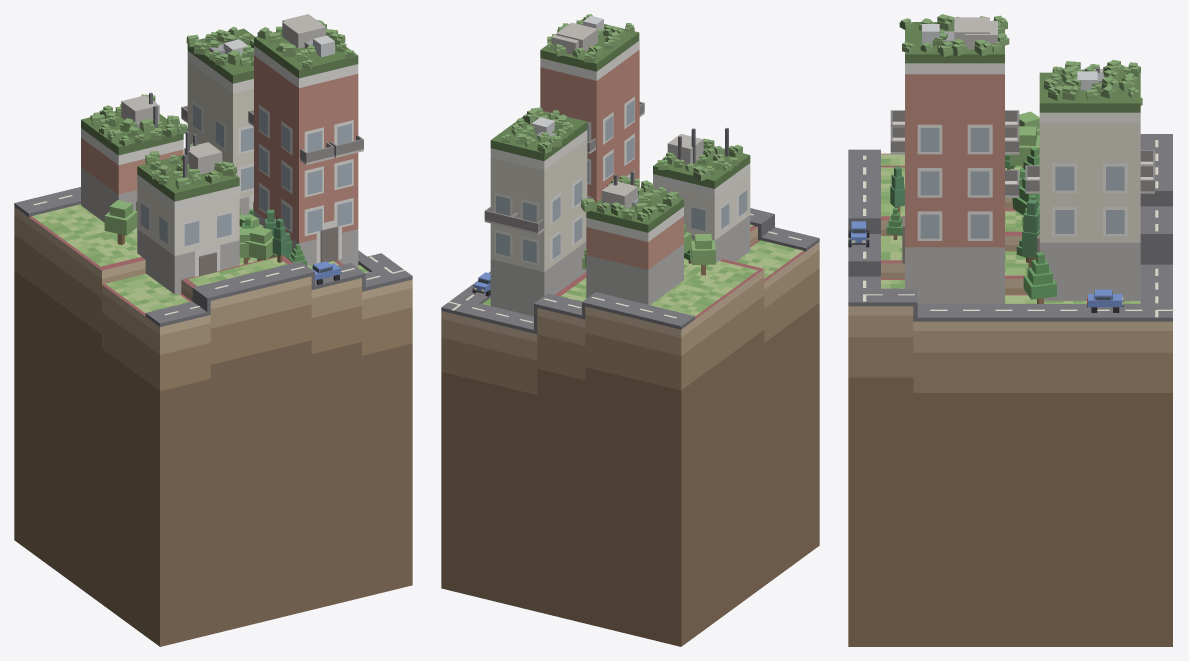
File: block_22_greenroof_40.glb
3 renders of one model, left to right at view 1: azimuth 30°, elevation 25°; view 2: azimuth 150°, elevation 25°; view 3: azimuth 270°, elevation 25°, orthographic. The views are drawn at different scales.
Parts seen in each view (by area): view 1: Patch_UpperRight_b21_GR, ResidBldgs_b22_GR, Roads_UpperRight_b21_GR, Green_UpperRight_b22_GR, GR_Roof_ResidBldgs_b22_GR, URTree_22_2_GR, URTree_22_7_GR; view 2: Patch_UpperRight_b21_GR, ResidBldgs_b22_GR, Roads_UpperRight_b21_GR, GR_Roof_ResidBldgs_b22_GR, Green_UpperRight_b22_GR, URTree_22_2_GR; view 3: Patch_UpperRight_b21_GR, ResidBldgs_b22_GR, Roads_UpperRight_b21_GR, GR_Roof_ResidBldgs_b22_GR, Green_UpperRight_b22_GR, URTree_22_21_GR, URTree_22_17_GR, RoadMarks_UpperRight_b21_GR, URTree_22_4_GR, RCar_12_GR, URTree_22_11_GR, RCar_8_GR.
Part boxes in pixels (<box>): Patch_UpperRight_b21_GR: <box>14,207,412,646</box>; ResidBldgs_b22_GR: <box>81,14,363,294</box>; Roads_UpperRight_b21_GR: <box>14,187,412,326</box>; Green_UpperRight_b22_GR: <box>32,204,369,312</box>; GR_Roof_ResidBldgs_b22_GR: <box>81,28,358,201</box>; URTree_22_2_GR: <box>104,200,137,244</box>; URTree_22_7_GR: <box>245,226,273,260</box>; Patch_UpperRight_b21_GR: <box>441,225,819,646</box>; ResidBldgs_b22_GR: <box>484,16,750,316</box>; Roads_UpperRight_b21_GR: <box>441,208,819,333</box>; GR_Roof_ResidBldgs_b22_GR: <box>490,19,750,232</box>; Green_UpperRight_b22_GR: <box>482,224,802,316</box>; URTree_22_2_GR: <box>691,233,715,275</box>; Patch_UpperRight_b21_GR: <box>848,153,1172,646</box>; ResidBldgs_b22_GR: <box>890,17,1154,303</box>; Roads_UpperRight_b21_GR: <box>848,134,1172,321</box>; GR_Roof_ResidBldgs_b22_GR: <box>905,22,1140,112</box>; Green_UpperRight_b22_GR: <box>881,154,1140,303</box>; URTree_22_21_GR: <box>1023,252,1056,303</box>; URTree_22_17_GR: <box>1022,199,1039,267</box>; RoadMarks_UpperRight_b21_GR: <box>863,140,1174,317</box>; URTree_22_4_GR: <box>1010,126,1039,167</box>; RCar_12_GR: <box>1087,289,1123,312</box>; URTree_22_11_GR: <box>890,166,904,214</box>; RCar_8_GR: <box>848,221,869,247</box>.
Size of the model in its own units: 9.5 by 19.17 by 9.55.
